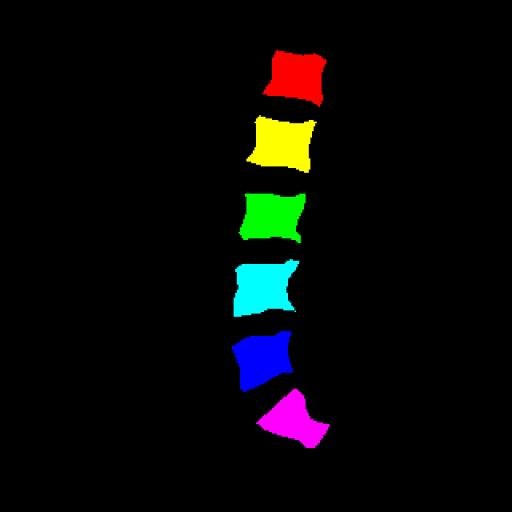L1: (263, 50, 326, 106)
L2: (247, 117, 316, 172)
L3: (239, 194, 304, 242)
L4: (234, 262, 299, 316)
L5: (232, 331, 293, 392)
S1: (257, 389, 329, 448)
